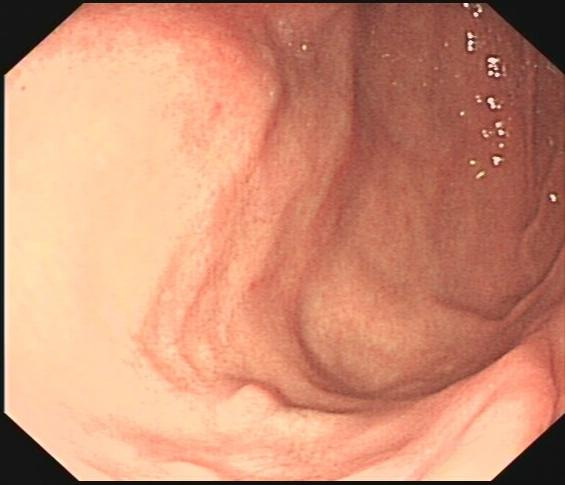Polyp: (213, 373, 291, 428)
